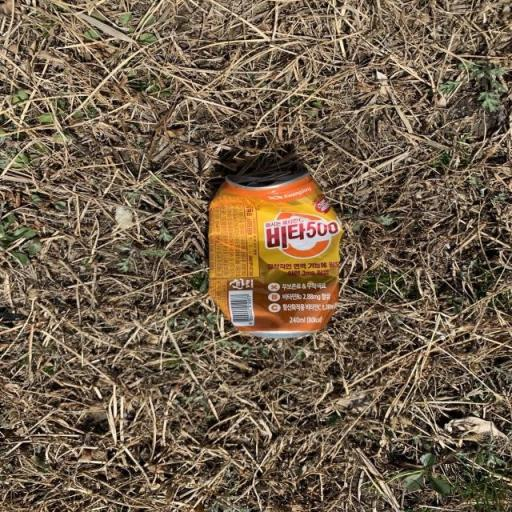metal: (190, 148, 364, 364)
